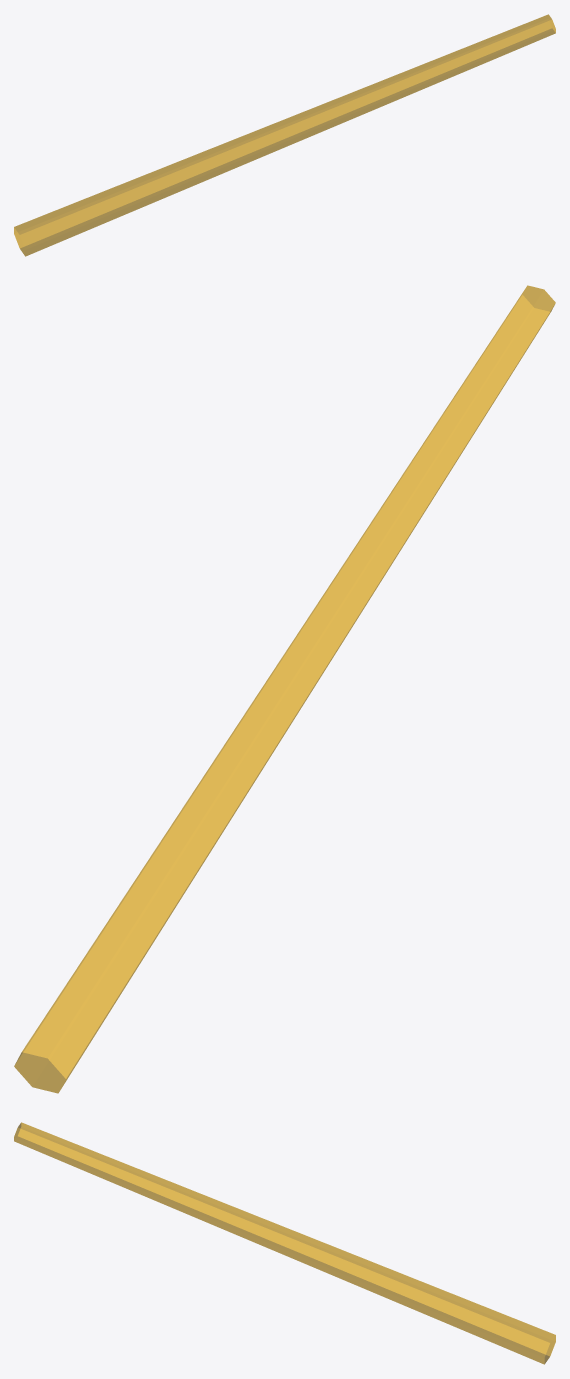
File: SM_Veh_Ship_M_Bowsprit_01_Collision.fbx
3 views of the same model, one above another, from view 1: azimuth 90°, elevation 25°; view 2: azimuth 150°, elevation 25°; view 3: azimuth 270°, elevation 25° (orthographic). The views are drawn at different scales.
Visible parts, largest first — view 1: SM_Veh_Ship_M_Bowsprit_01_Collision; view 2: SM_Veh_Ship_M_Bowsprit_01_Collision; view 3: SM_Veh_Ship_M_Bowsprit_01_Collision.
Boxes of the visible parts, x1=… form: SM_Veh_Ship_M_Bowsprit_01_Collision: x1=14, y1=14, x2=555, y2=256; SM_Veh_Ship_M_Bowsprit_01_Collision: x1=14, y1=285, x2=555, y2=1093; SM_Veh_Ship_M_Bowsprit_01_Collision: x1=14, y1=1122, x2=555, y2=1364.
Bounding box in the file's own units: 94.07 × 767 × 1591.
